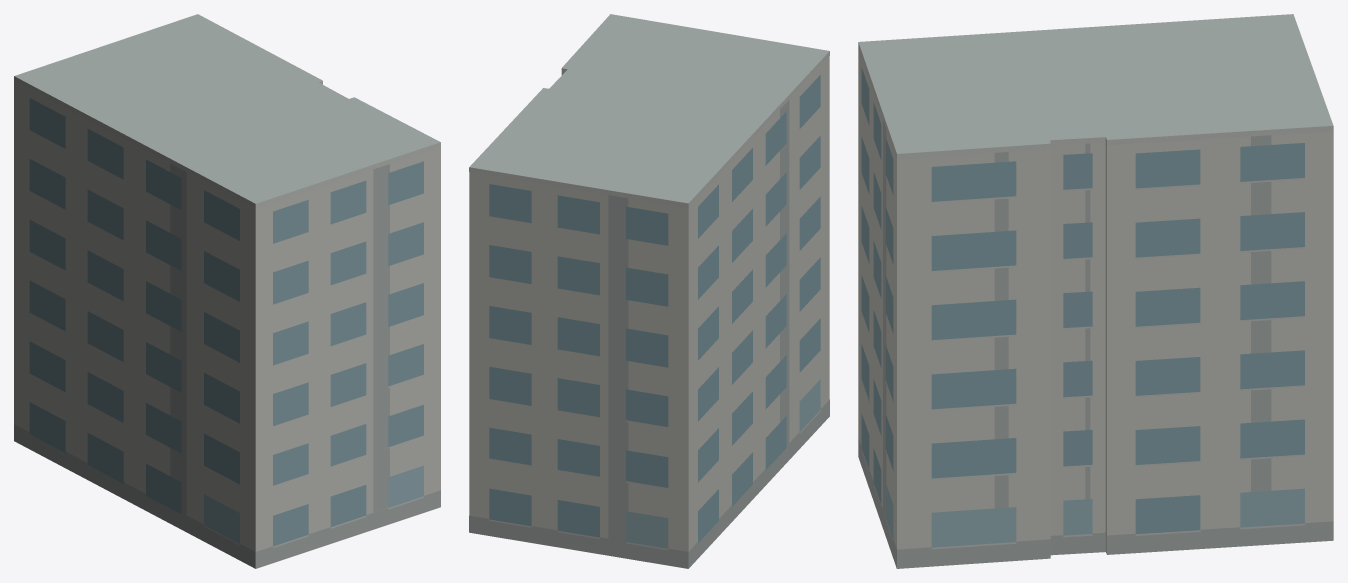
The model's file is survey-upis-32868229.glb.
3 views of the same model, side by side, from view 1: azimuth 30°, elevation 25°; view 2: azimuth 150°, elevation 25°; view 3: azimuth 270°, elevation 25° (orthographic). The views are drawn at different scales.
Visible parts, largest first — view 1: survey-upis-32868229.tmp; view 2: survey-upis-32868229.tmp; view 3: survey-upis-32868229.tmp.
Boxes of the visible parts, <box> form: survey-upis-32868229.tmp: <box>14,14,440,568</box>; survey-upis-32868229.tmp: <box>469,14,829,568</box>; survey-upis-32868229.tmp: <box>858,14,1333,568</box>.
Bounding box in the file's own units: 13.32 × 18.4 × 19.11.
